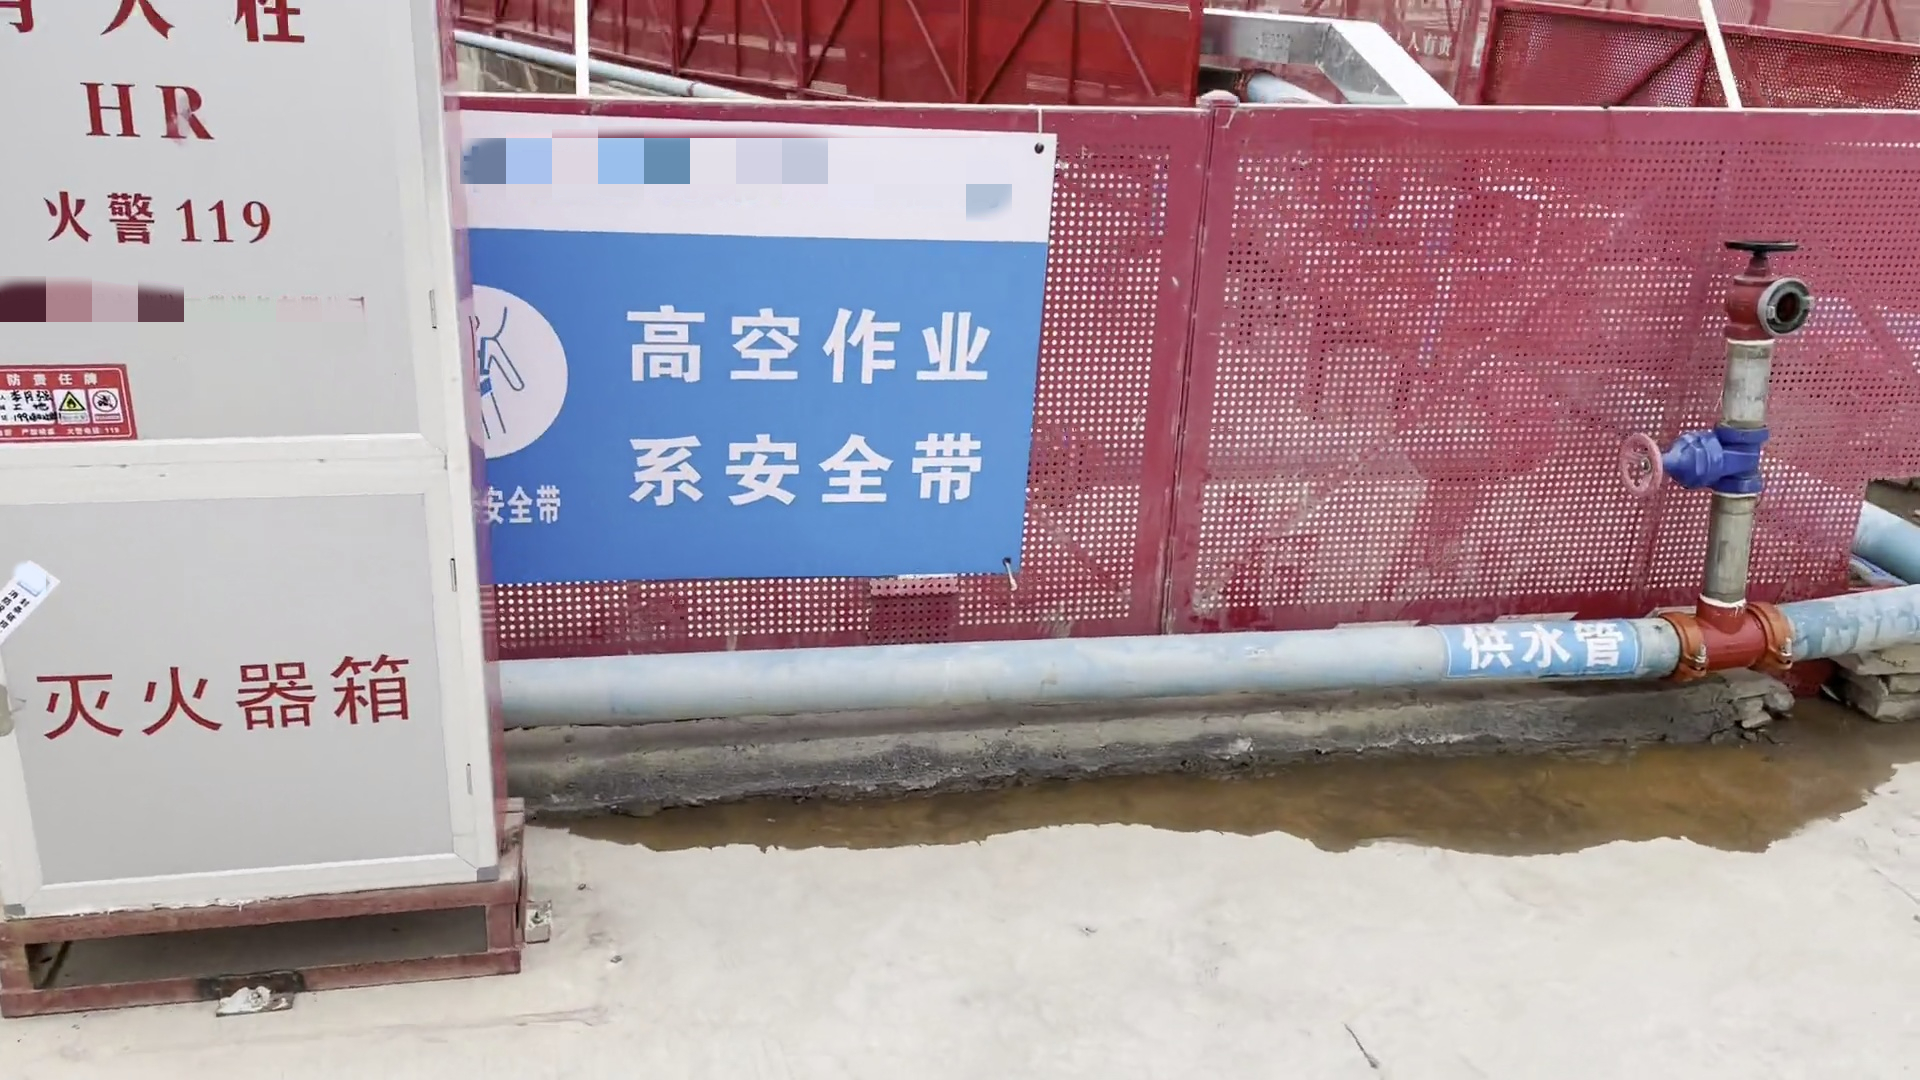fence: (454, 88, 1902, 669)
slogan: (444, 274, 1011, 566)
